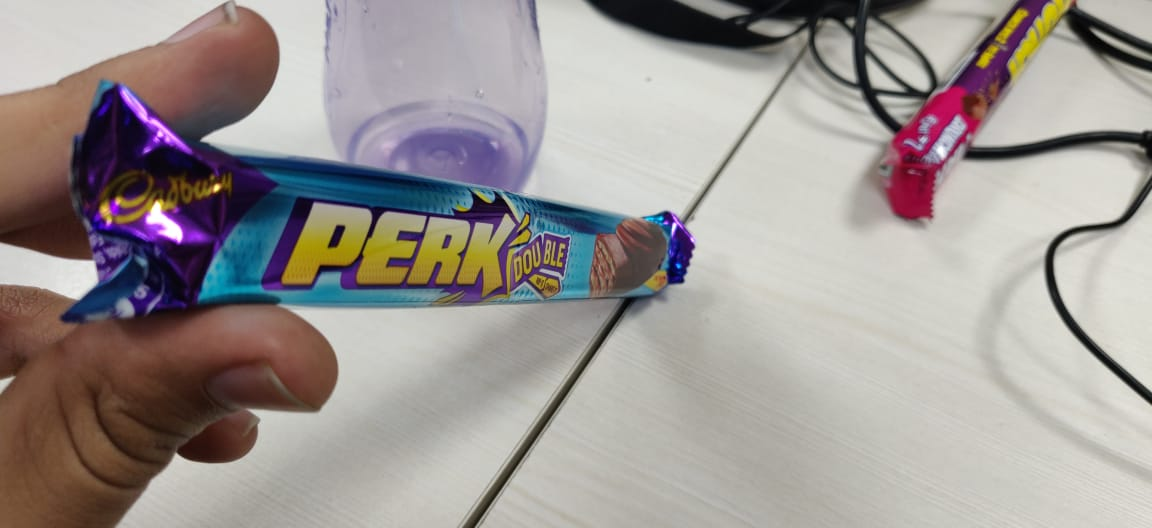perk: (65, 65, 735, 360)
